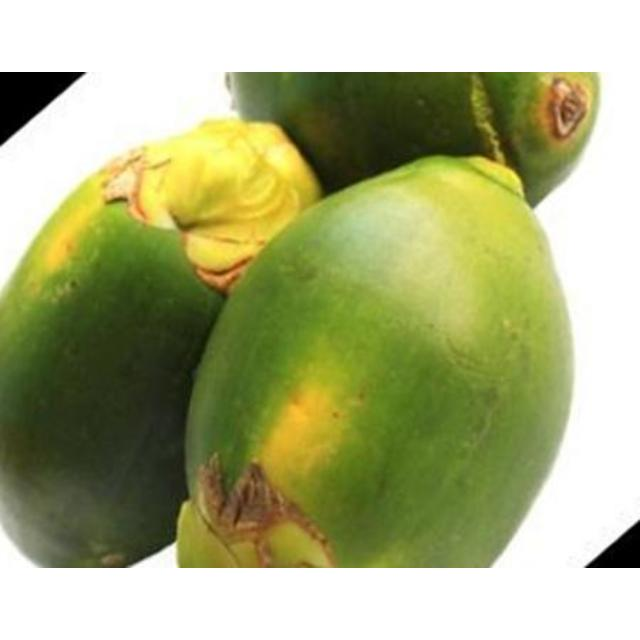good: (172, 157, 577, 567), (0, 118, 321, 567), (230, 72, 599, 207)
